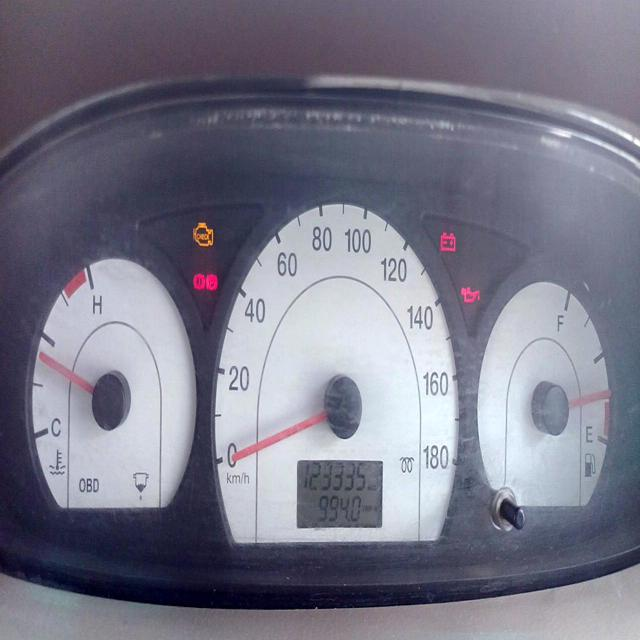odometer: (302, 461, 367, 496)
